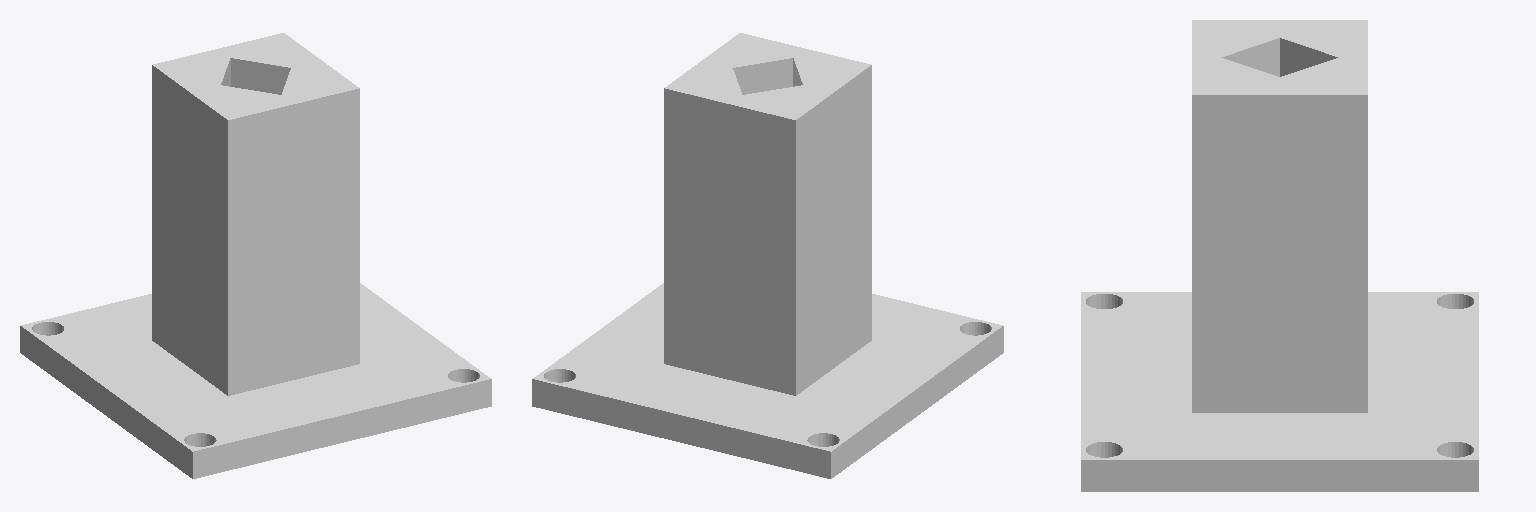
The robot description file, URDF, robot "base":
<?xml version="1.0" ?>

<robot name="base">
	<link name="base">
<!-- 	    <contact>
	      <stiffness value="40000000.0"/>
	      <damping value="400000.0"/>
	      <lateral_friction value="0.07"/>
	      <spinning_friction value="0"/>
	      <rolling_friction value="0"/>
	    </contact>
 -->		<inertial>
			<origin xyz="0 0 0"/>
			<mass value="0.1"/>
			<inertia ixx="0.1" ixy="0" ixz="0" iyy="0.1" iyz="0" izz="0.1"/>
		</inertial>
		<visual>
			<origin rpy="0 0 0" xyz="0 0 0"/>
	      	<geometry>
	      		<!-- <cylinder length="0.001" radius="0.001"/> -->
	        	<mesh filename="base.obj"/>
	      	</geometry>
	  		<material name="panda_white">
	  			<color rgba="0.91 0.91 0.91 1."/>
				</material>
		</visual>
		<collision concave="yes">
	  		<origin rpy="0 0 0" xyz="0 0 0"/>
	  		<geometry>
	  			<!-- <cylinder length="0.001" radius="0.001"/> -->
	    		<mesh filename="base.obj"/>
	  		</geometry>
	  		<material name="panda_white"/>
		</collision>
	</link>

</robot>

--- Render facts (derived) ---
Views: 3 orthographic renders of the robot side by side, from view 1: azimuth 30°, elevation 25°; view 2: azimuth 150°, elevation 25°; view 3: azimuth 270°, elevation 25°.
Robot: base — 1 links, 0 joints (none); root link base; default pose: all joints at 0.
Links seen in each view (by area): view 1: base; view 2: base; view 3: base.
Link boxes in pixels (x1,y1,x2,y2): base: (20,33,491,478); base: (532,33,1003,478); base: (1081,20,1478,491).
Bounding box of the posed robot: 0.068 × 0.068 × 0.066 m (x, y, z).
Meshes: 1 distinct files referenced, 1 mesh visuals loaded (1 OBJ).